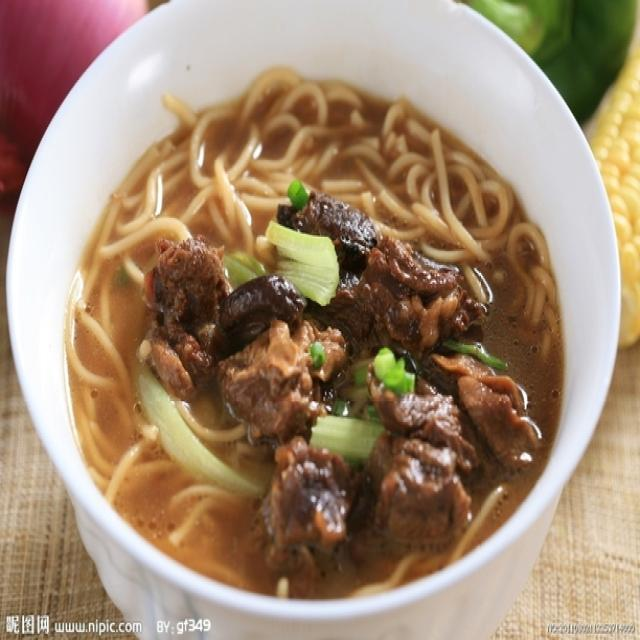面条主食: (31, 35, 608, 602)
